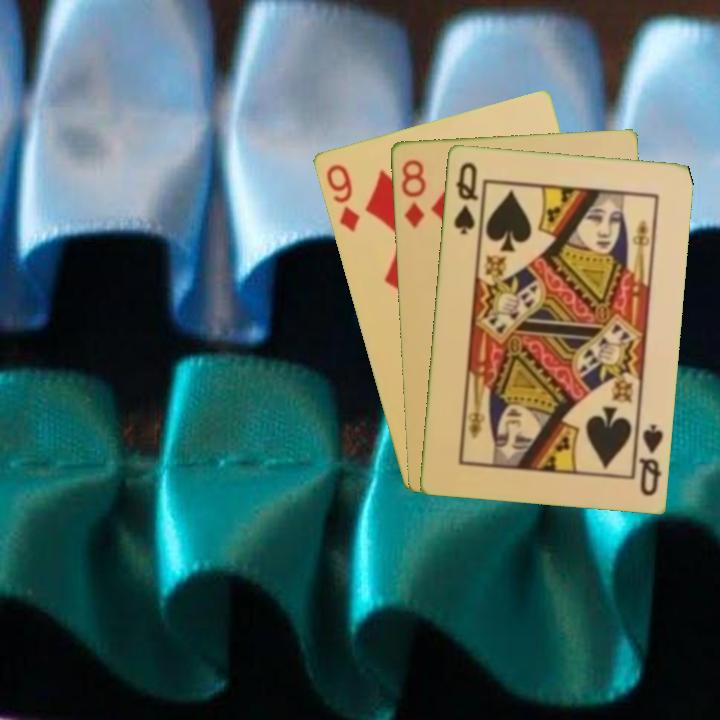8d: (397, 156, 429, 231)
9d: (322, 160, 362, 235)
Qs: (635, 419, 666, 499), (450, 158, 481, 237)
